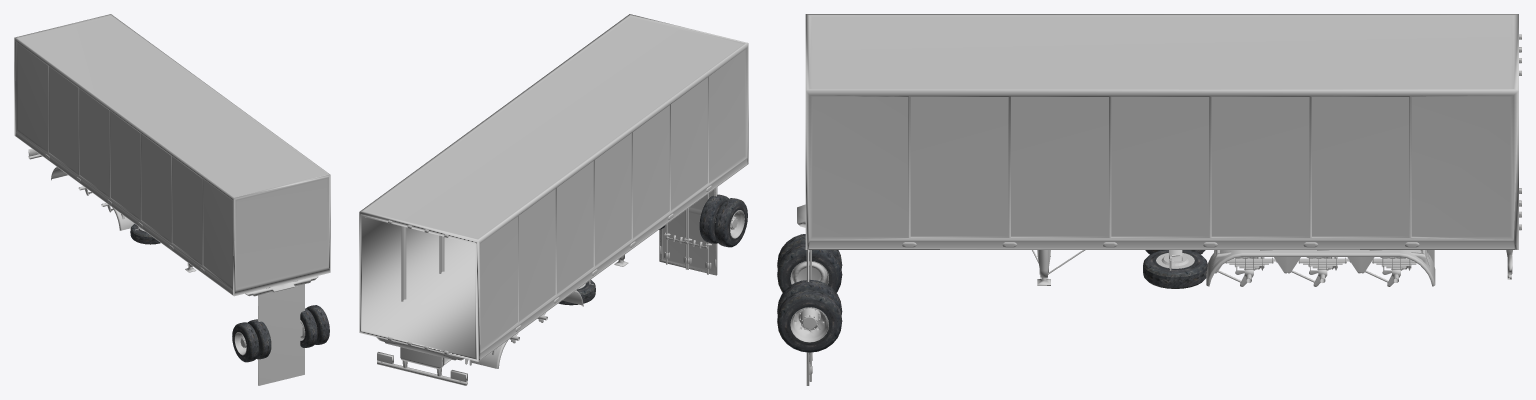
File: trailer_new.fbx
3 views of the same model, side by side, from view 1: azimuth 30°, elevation 25°; view 2: azimuth 150°, elevation 25°; view 3: azimuth 270°, elevation 25° (orthographic). The views are drawn at different scales.
Visible parts, largest first — view 1: trailer_main, door_right, wheels, door_left; view 2: trailer_main, door_right, wheels, door_left; view 3: trailer_main, wheels.
Boxes of the visible parts, left/top/right/bottom form: trailer_main: left=14, top=14, right=330, bottom=296; door_right: left=259, top=284, right=304, bottom=385; wheels: left=232, top=305, right=329, bottom=362; door_left: left=258, top=291, right=304, bottom=385; trailer_main: left=359, top=14, right=748, bottom=385; door_right: left=659, top=189, right=716, bottom=274; wheels: left=659, top=194, right=747, bottom=247; door_left: left=659, top=187, right=717, bottom=275; trailer_main: left=797, top=14, right=1521, bottom=288; wheels: left=777, top=234, right=842, bottom=352.
Size of the model in its own units: 247 by 474 by 1013.
